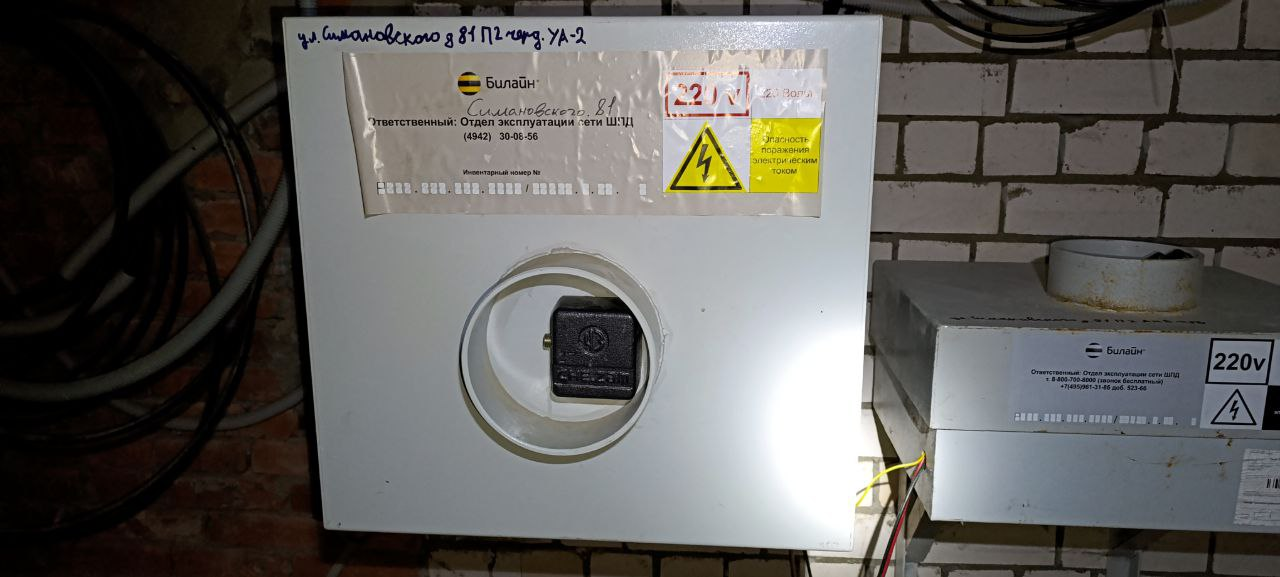shta-9: (273, 11, 889, 559)
shta-ps: (870, 231, 1279, 535)
